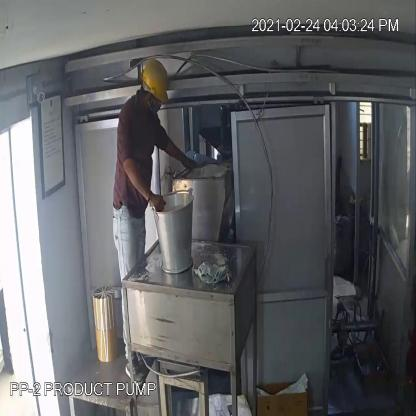helmet: (140, 55, 173, 99)
